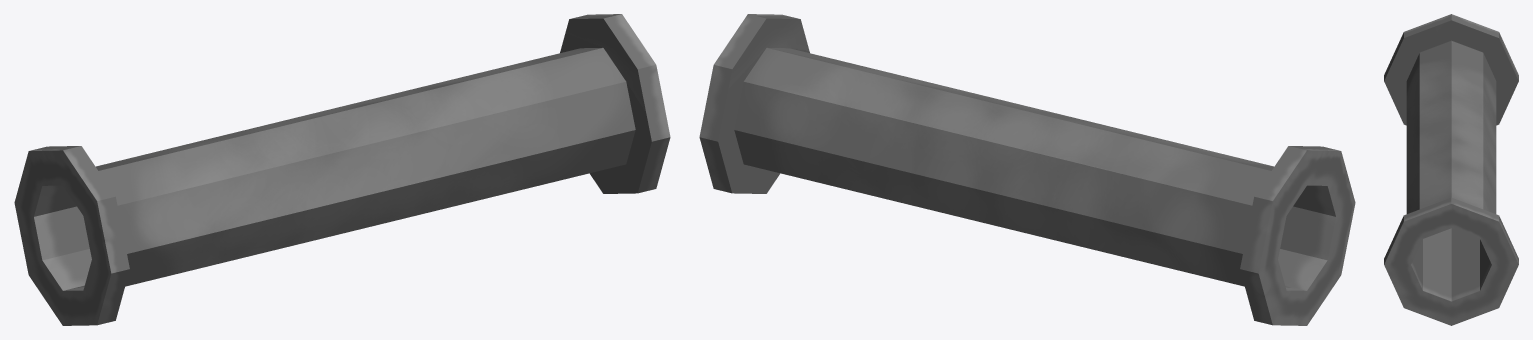
3 renders of one model, left to right at view 1: azimuth 30°, elevation 25°; view 2: azimuth 150°, elevation 25°; view 3: azimuth 270°, elevation 25°, orthographic. The views are drawn at different scales.
Parts seen in each view (by area): view 1: Pipe2-1; view 2: Pipe2-1; view 3: Pipe2-1.
Boxes of the visible parts, bbox=[...] form: Pipe2-1: bbox=[14, 14, 670, 325]; Pipe2-1: bbox=[699, 14, 1355, 325]; Pipe2-1: bbox=[1384, 14, 1518, 325].
Bounding box in the file's own units: 10 × 3 × 3.
Materials: 1 (1 with a texture image).
